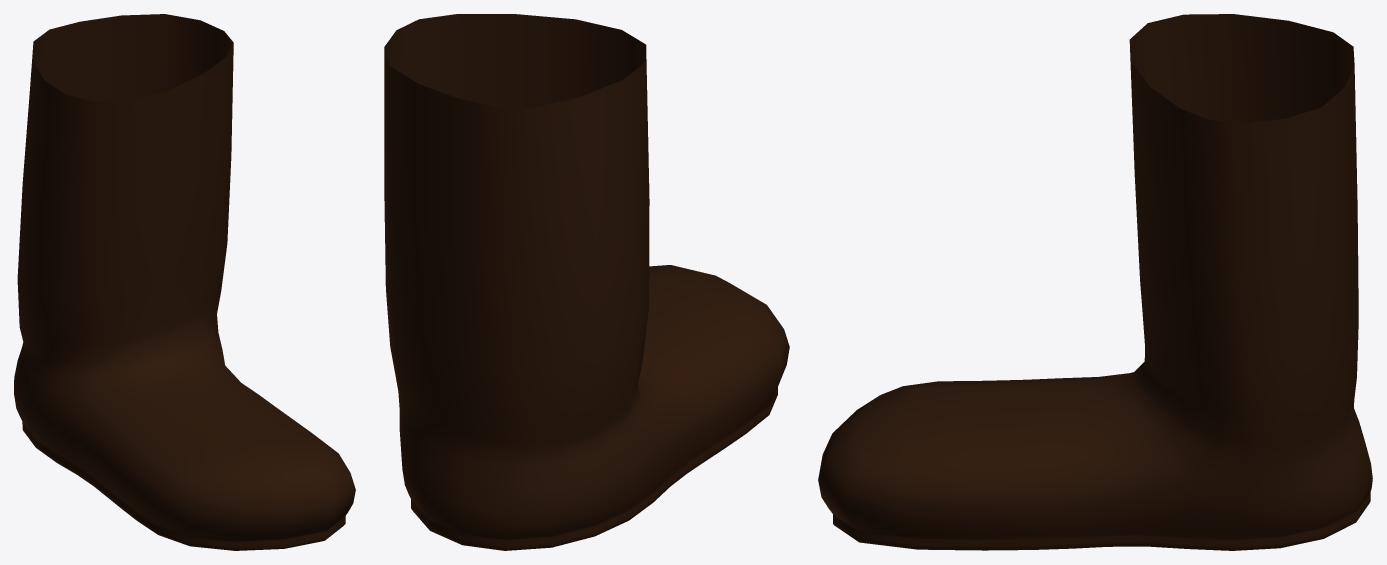
File: boots-1.glb
3 renders of one model, left to right at view 1: azimuth 30°, elevation 25°; view 2: azimuth 150°, elevation 25°; view 3: azimuth 270°, elevation 25°, orthographic. The views are drawn at different scales.
Parts seen in each view (by area): view 1: bottes; view 2: bottes; view 3: bottes.
Part boxes in pixels (x1,y1,x2,y2): bottes: (14,14,355,550); bottes: (384,14,789,550); bottes: (818,14,1372,550).
Size of the model in its own units: 0.4267 by 0.7589 by 0.8576.
